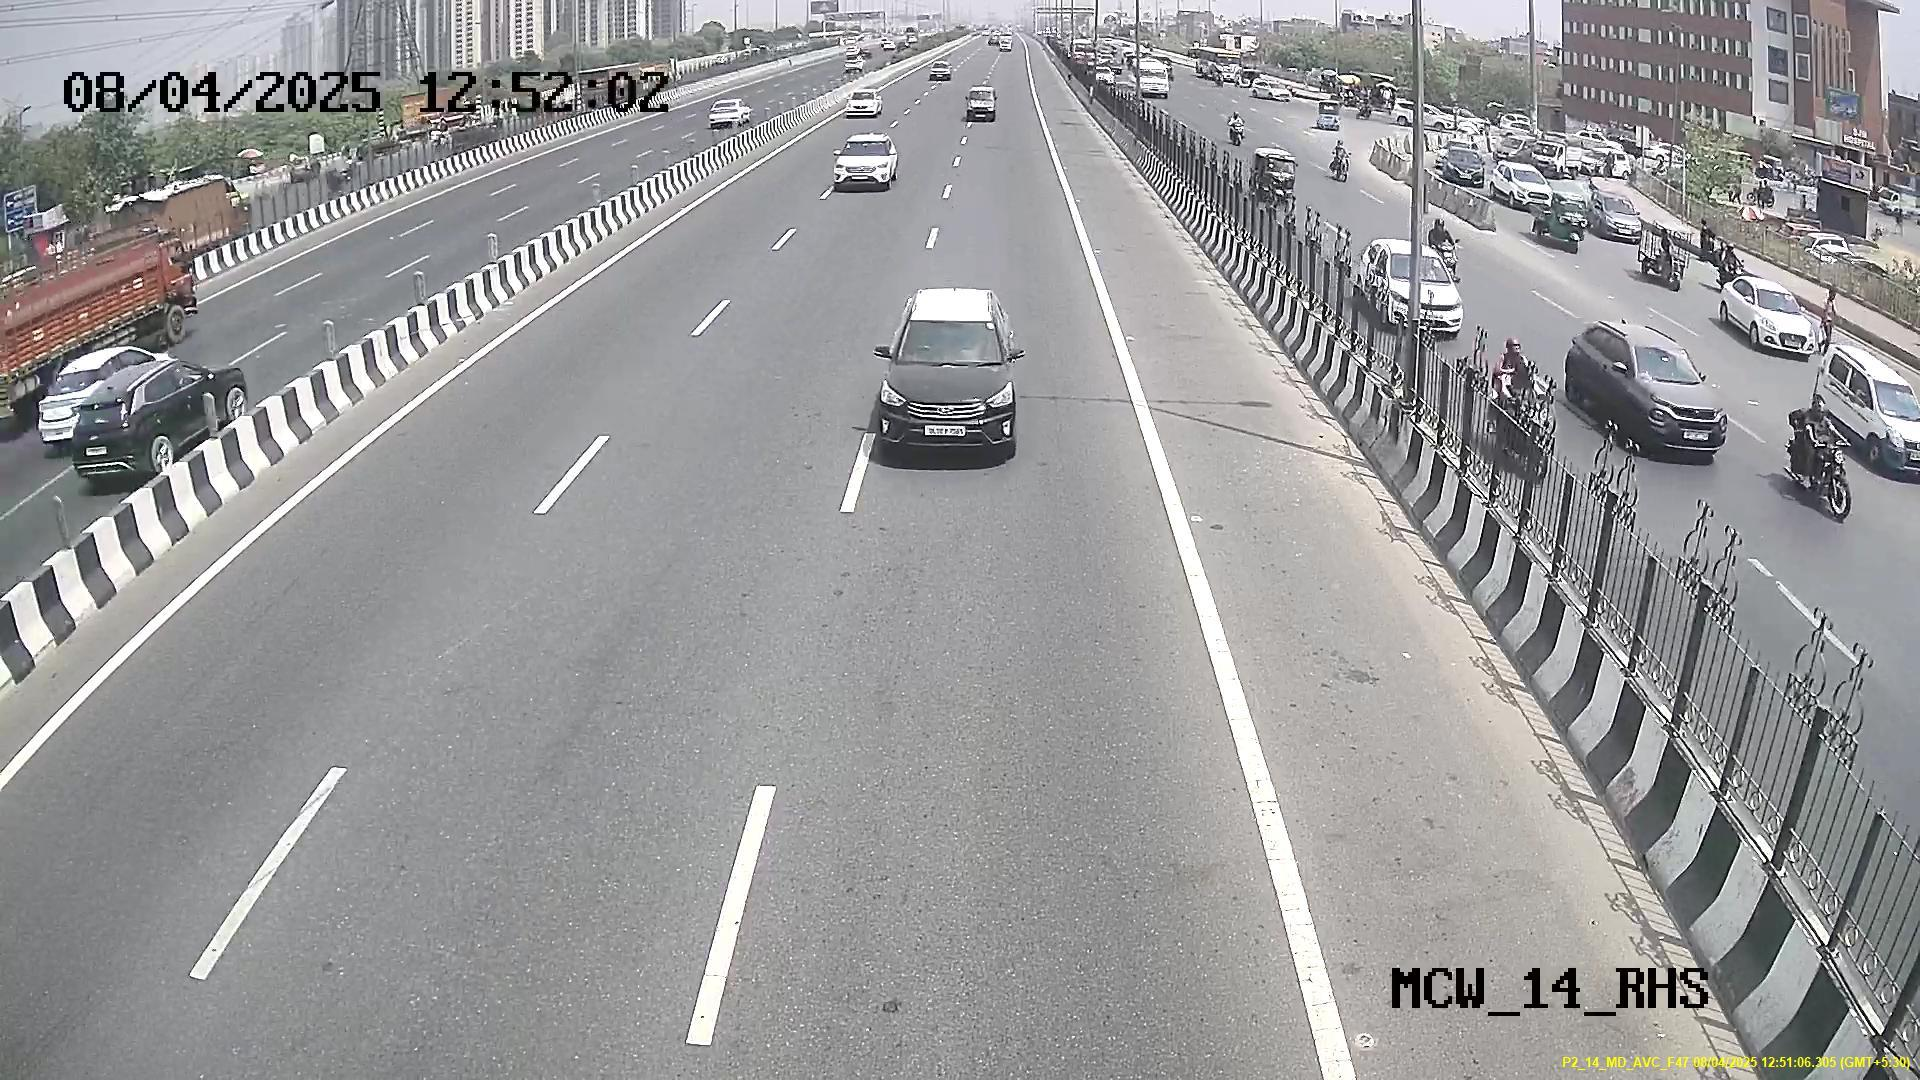car: (878, 305, 1015, 463)
